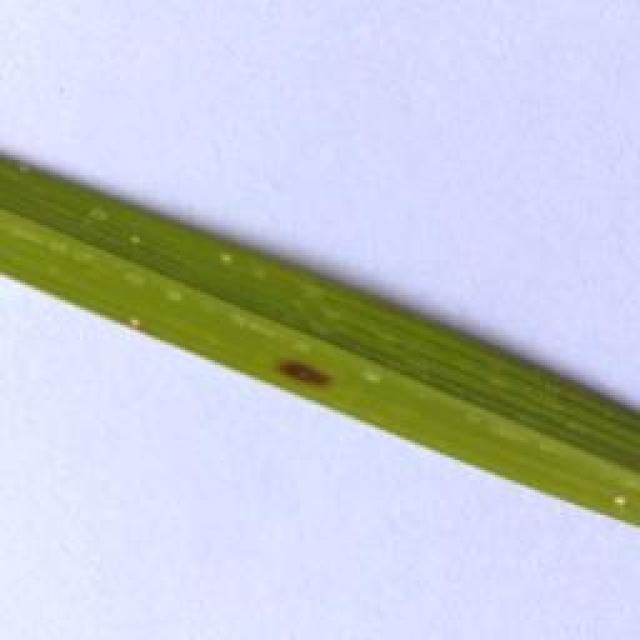Brown_Spot: (250, 349, 349, 397)
